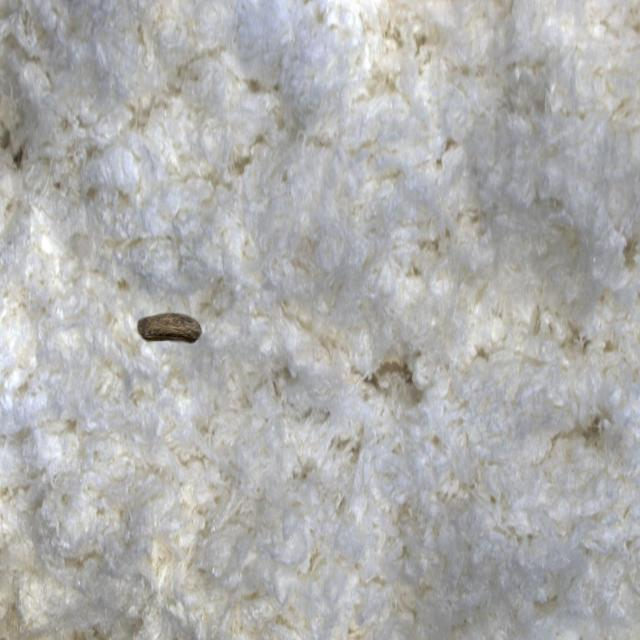dust: (110, 260, 224, 408)
